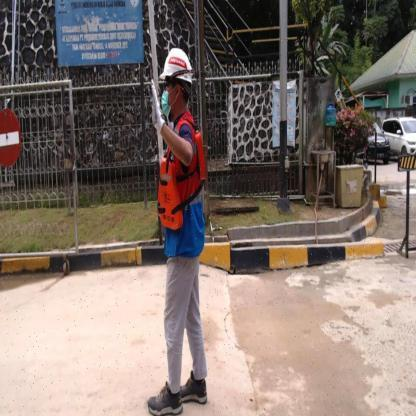boots: (147, 380, 183, 416), (179, 370, 208, 405)
gloves: (148, 78, 167, 135)
goggles: (162, 78, 184, 91)
helmet: (158, 45, 196, 86)
mask: (161, 89, 171, 118)
vest: (156, 126, 206, 230)
